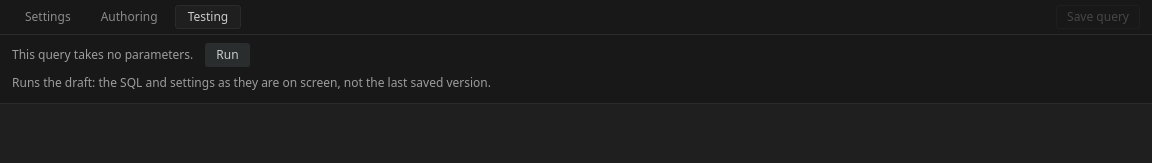
Test: Testing › renders a Scalar result as one value
The image size is (1152, 163).
Click the button "Run".
click(227, 55)  # box [205,43,250,67]
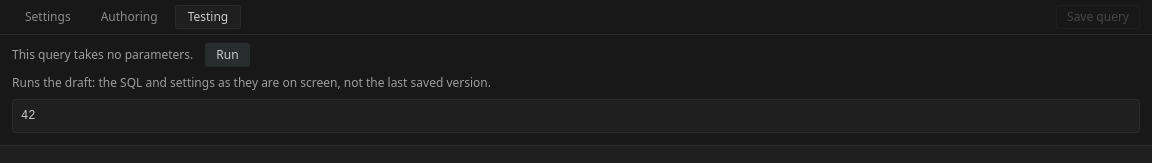
Check: the text "42" is shown, box [12,99,1140,133]
